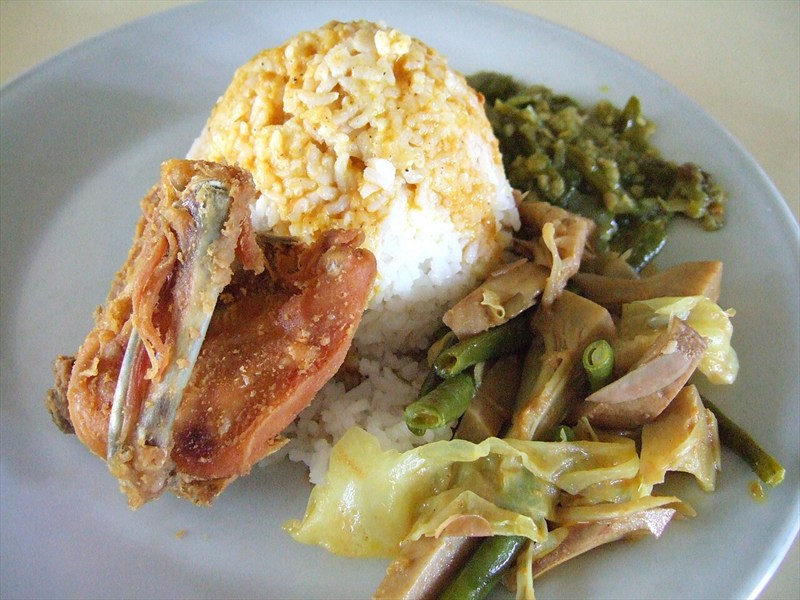Ayam Goreng: (107, 64, 698, 546)
